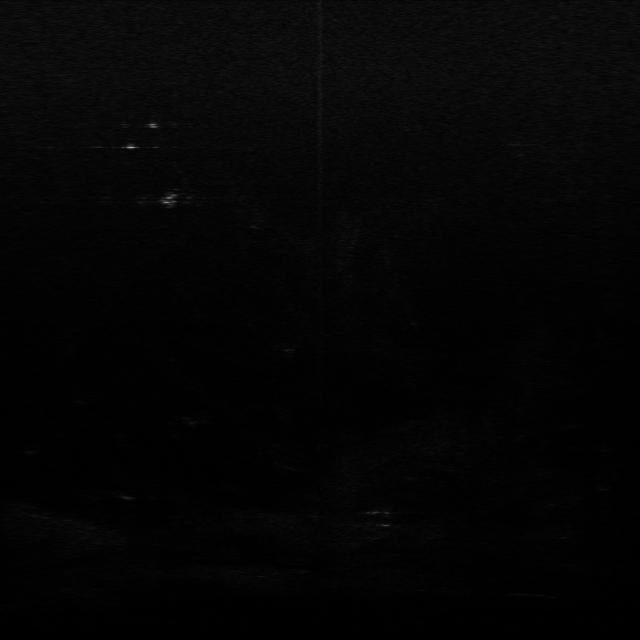rov: (157, 191, 182, 210)
